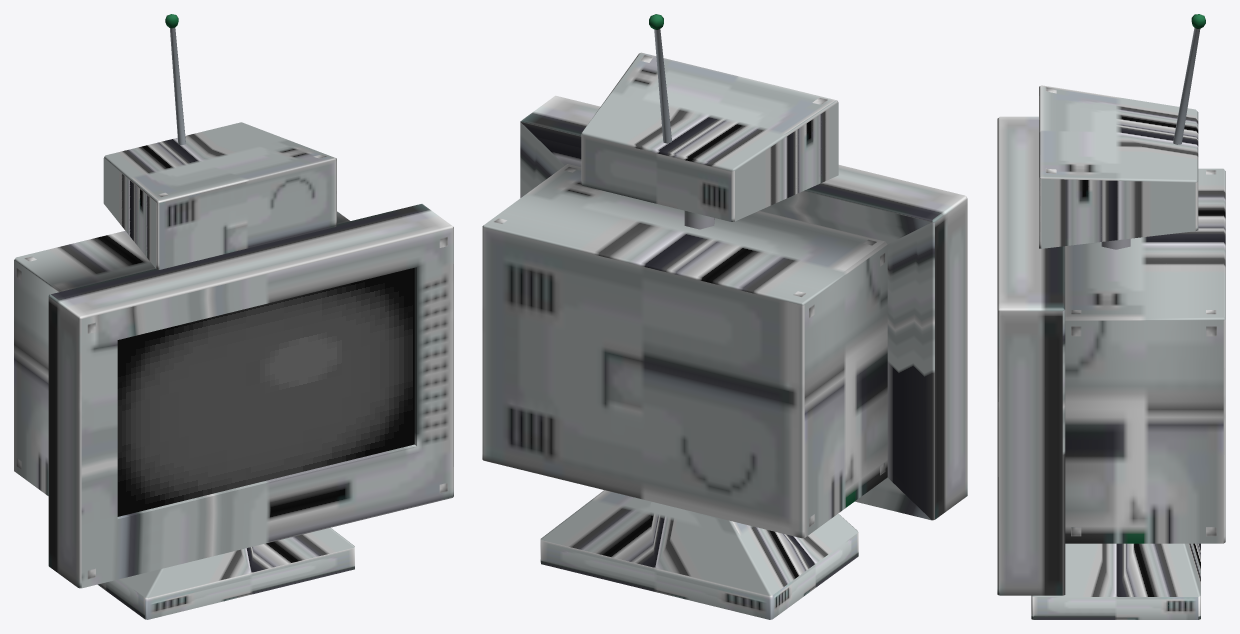
The model's file is rmk_rob_tv.dae.
The picture shows the model from 3 angles, left to right: view 1: azimuth 30°, elevation 25°; view 2: azimuth 150°, elevation 25°; view 3: azimuth 270°, elevation 25°; orthographic projection. The views are drawn at different scales.
Parts seen in each view (by area): view 1: rmk_rob_tv; view 2: rmk_rob_tv; view 3: rmk_rob_tv.
Part boxes in pixels (bbox=[...]): rmk_rob_tv: bbox=[14, 14, 453, 619]; rmk_rob_tv: bbox=[482, 14, 967, 619]; rmk_rob_tv: bbox=[997, 14, 1225, 619].
Size of the model in its own units: 54 by 71.75 by 27.
Materials: 2 (2 with a texture image).
